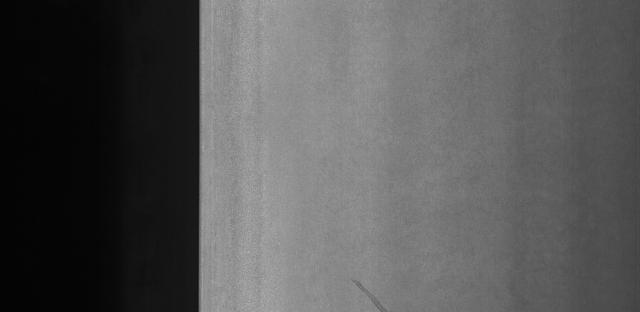water_spot: (342, 267, 390, 312)
